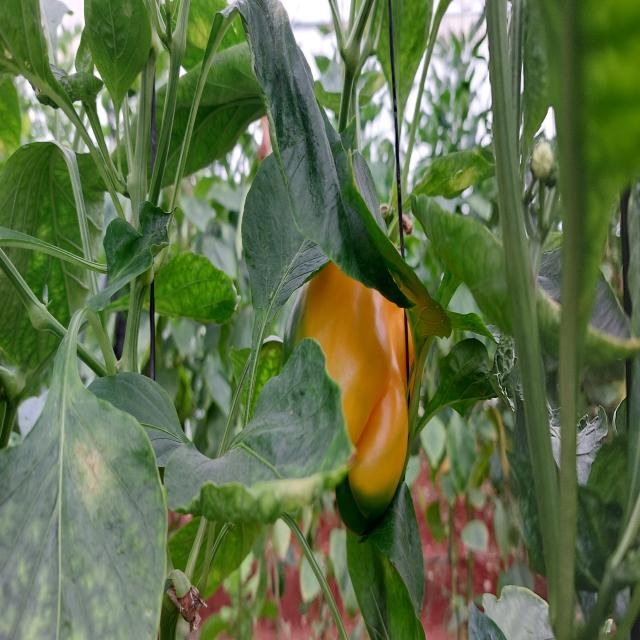Yellow-Ready-to-Harvest: (300, 210, 418, 507)
